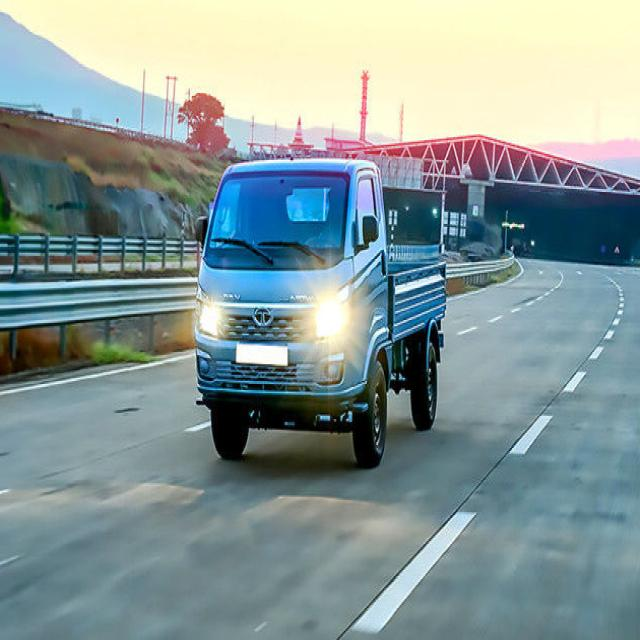truck: (195, 159, 446, 468)
